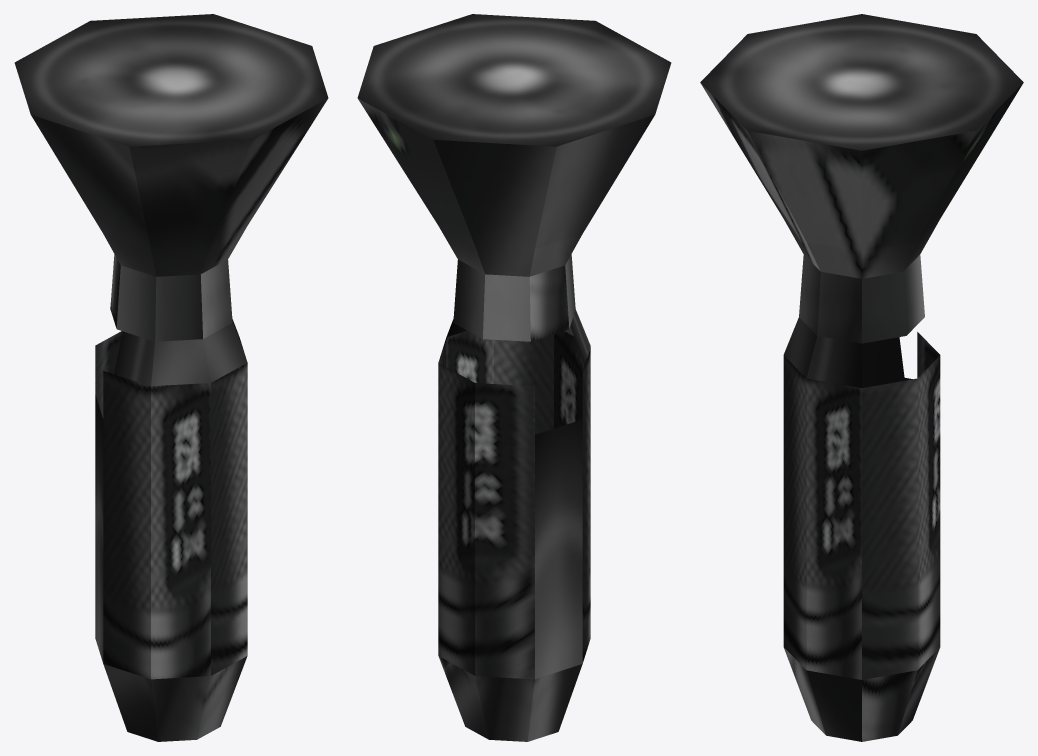
Rendered from flash.fbx.
The picture shows the model from 3 angles, left to right: view 1: azimuth 30°, elevation 25°; view 2: azimuth 150°, elevation 25°; view 3: azimuth 270°, elevation 25°; orthographic projection.
Visible parts, largest first — view 1: Cylinder; view 2: Cylinder; view 3: Cylinder.
Part boxes in pixels (bbox=[...]): Cylinder: bbox=[14, 14, 328, 741]; Cylinder: bbox=[357, 14, 671, 741]; Cylinder: bbox=[700, 14, 1023, 741].
Size of the model in its own units: 206 by 449 by 206.
1 material, 1 textured.
